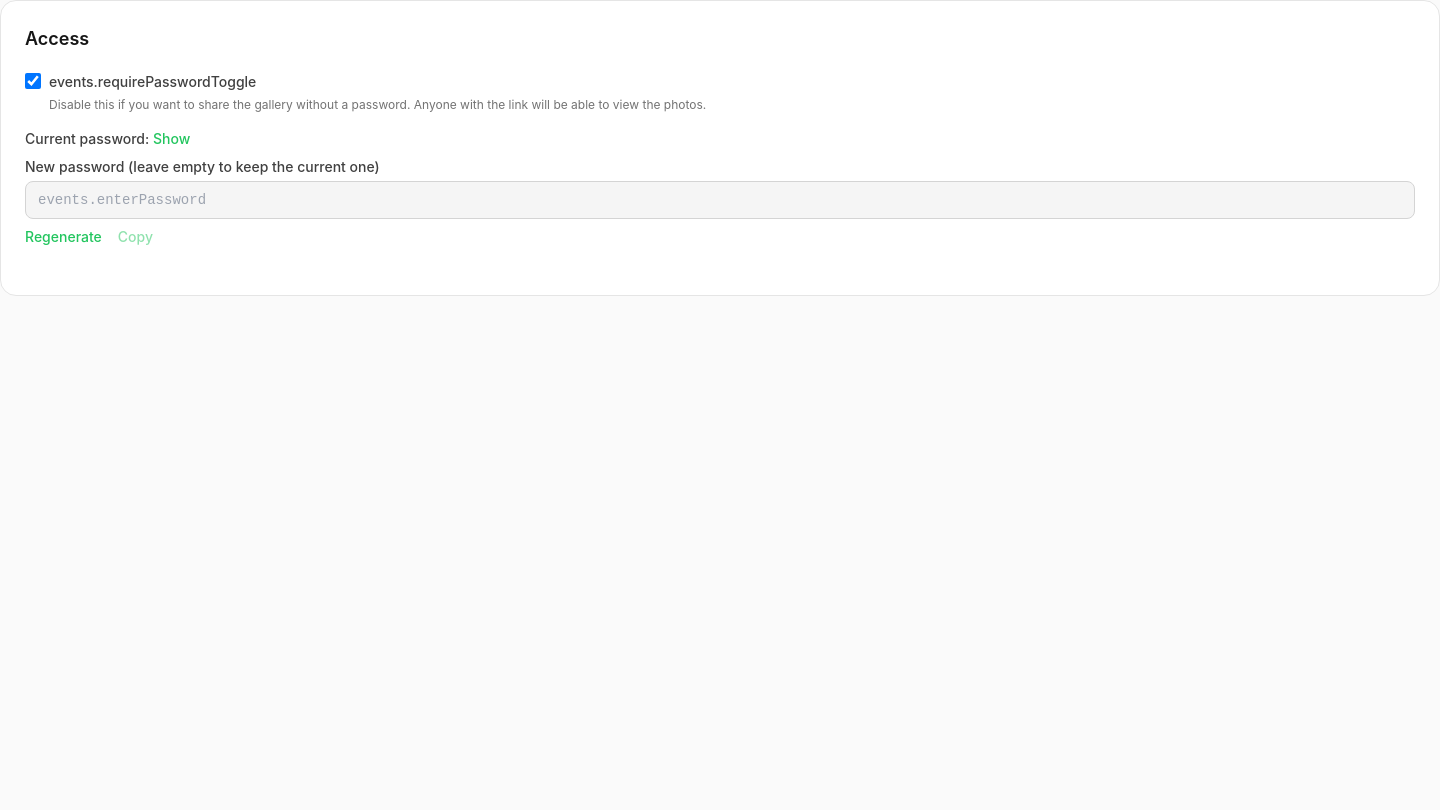
Scenario: asks before removing the password of a published gallery, and Cancel changes nothing
This screenshot has width=1440, height=810.
What coordinates should you click on to do the following:
click the checkbox
I would click on:
 (33, 81)
Its box is x1=25 y1=73 x2=41 y2=89.
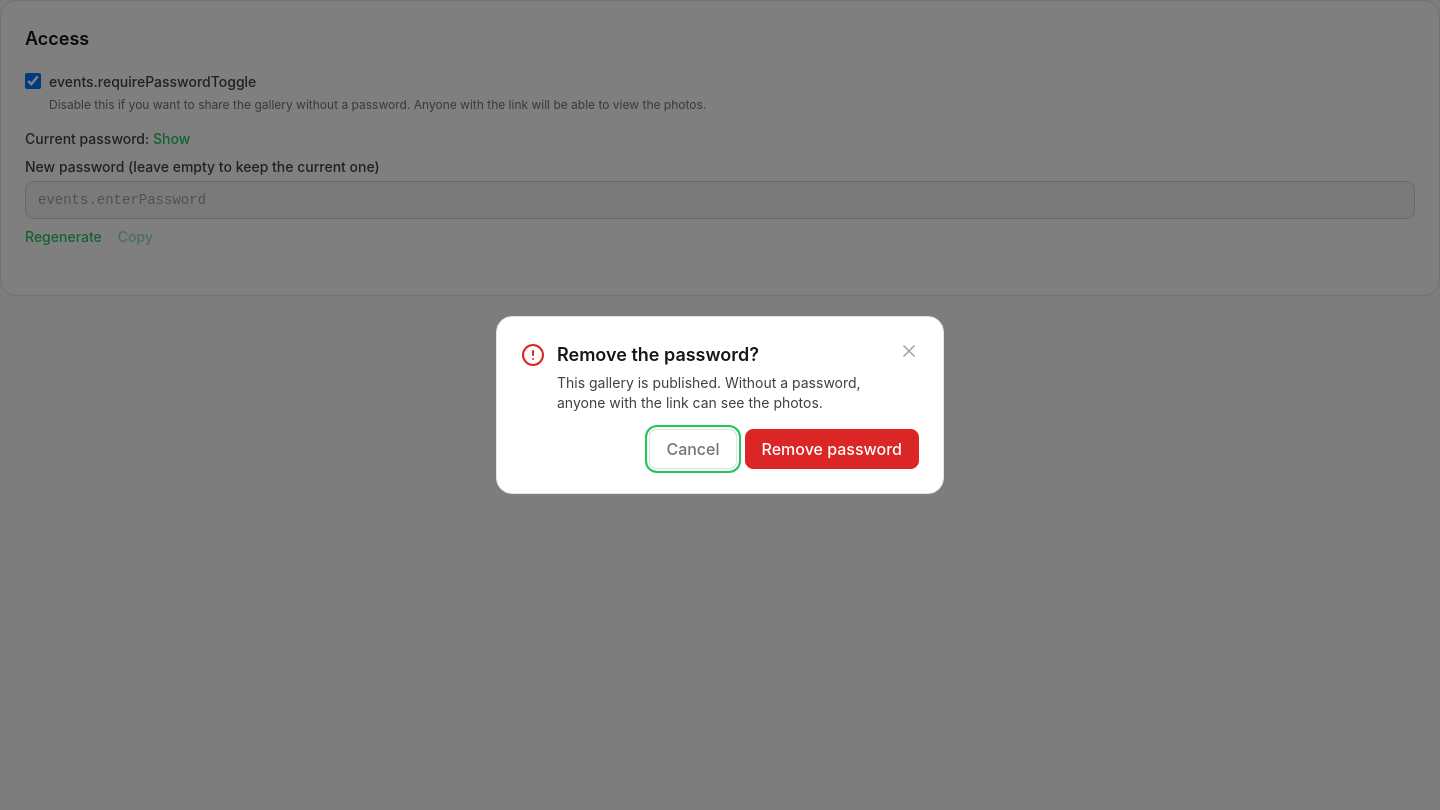
What coordinates should you click on to do the following:
click the button "Cancel"
I would click on:
 (693, 449)
Its box is x1=649 y1=429 x2=736 y2=469.
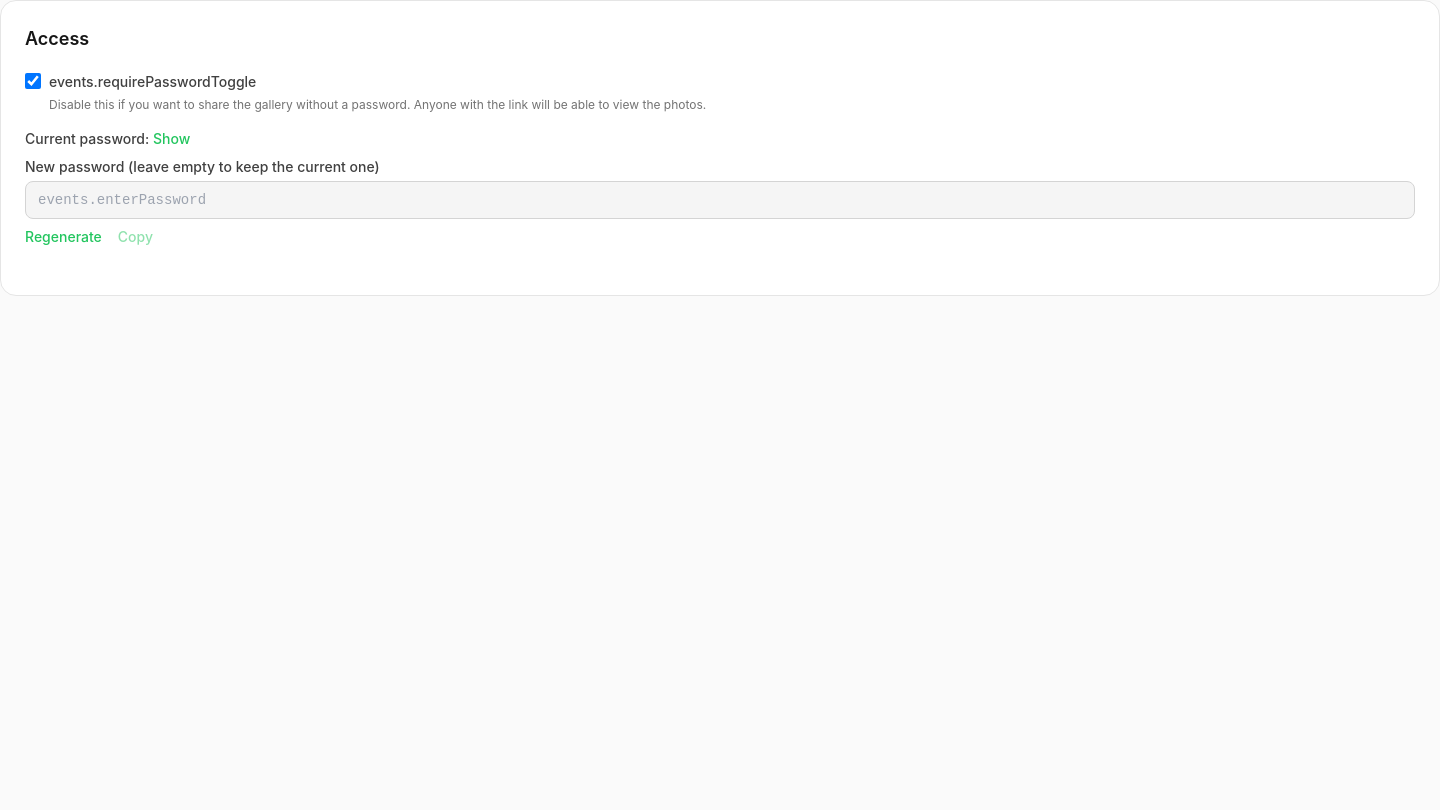
expect the dialog is gone: met
